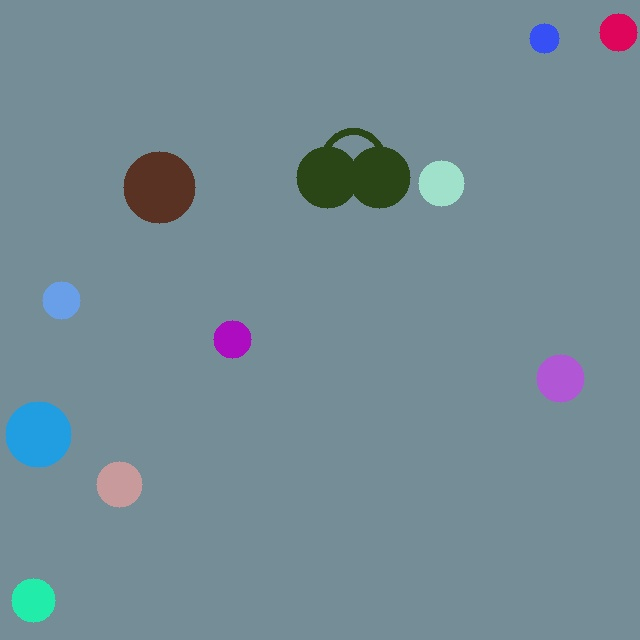over_ear: (292, 125, 414, 212)
